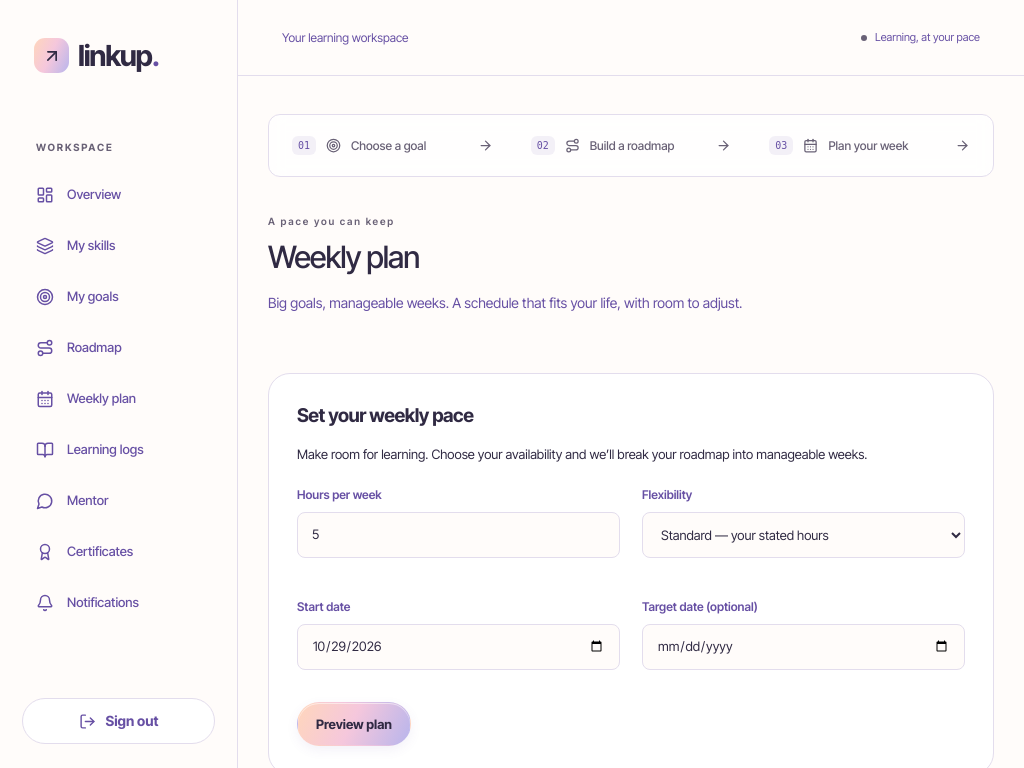
Test: Weekly plan › shows required deadline and workload warnings
Select "Deadline — calculate required hours" in the dropdown labelled "Flexibility" at (804,535), box [642,512,965,558]
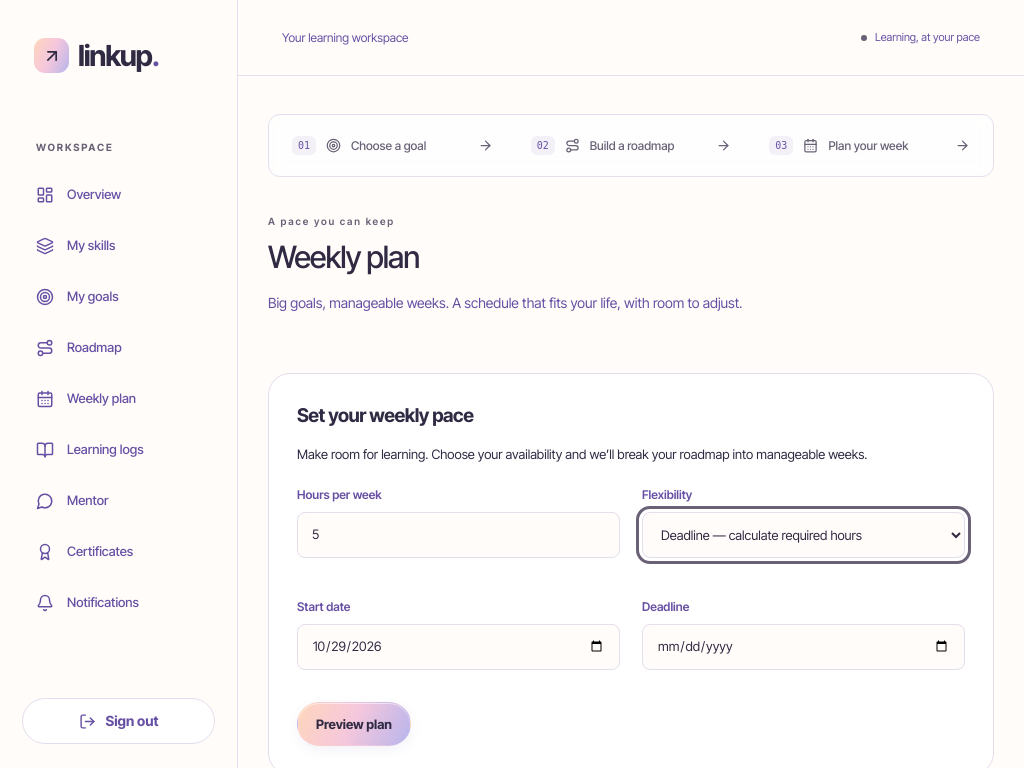
Type "2027-01-01" into the date field labelled "Deadline" at (804,647), box [642,624,965,670]
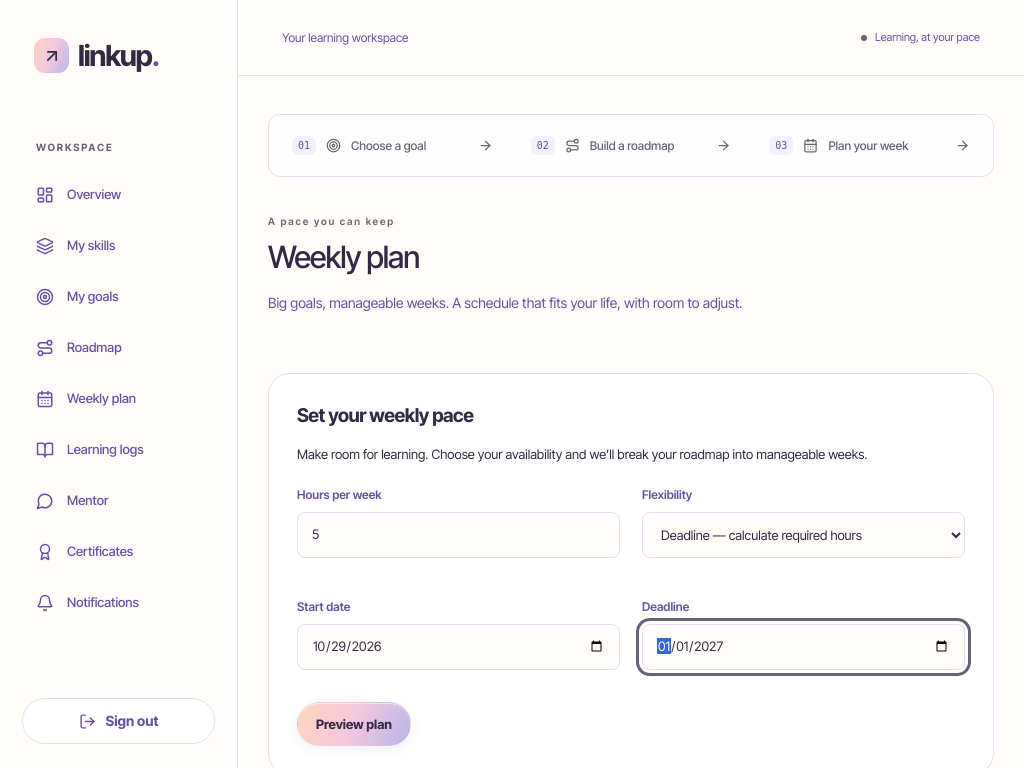
Click the button "Preview plan" at (354,724), box [297,702,411,746]
(page scrolled)
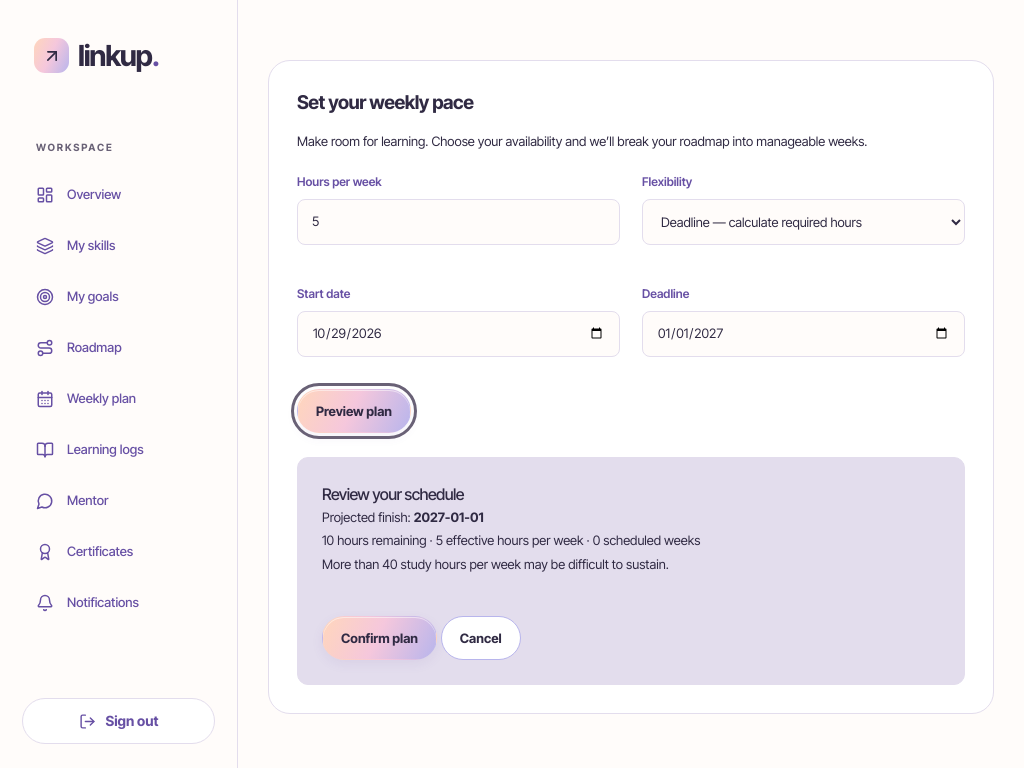
Check: the text "More than 40 study hours per week may be difficult to sustain." is shown, box [322,556,669,572]
